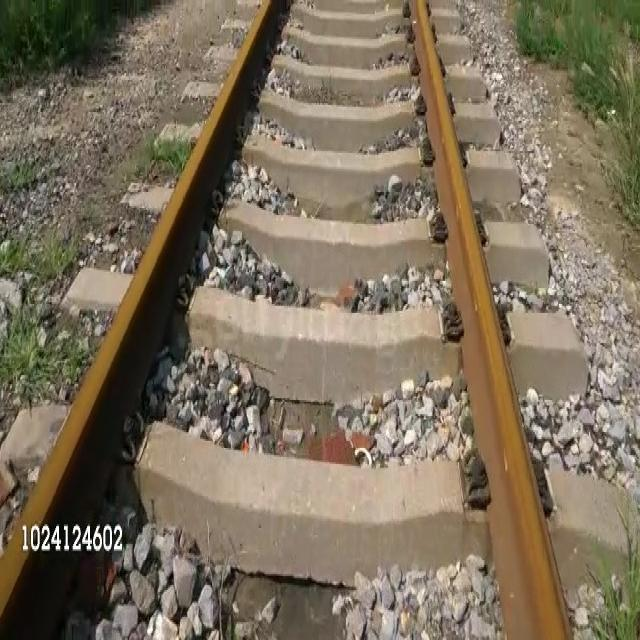Plant: (516, 0, 639, 122), (0, 0, 159, 78), (602, 53, 639, 236), (0, 316, 64, 388), (30, 232, 73, 283), (158, 131, 190, 168), (0, 242, 24, 278)
